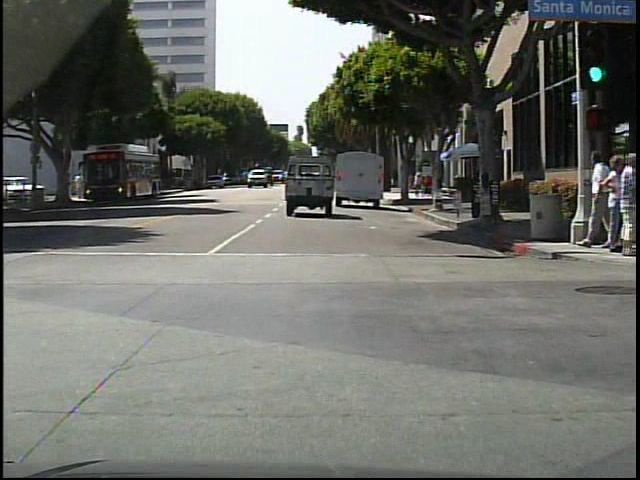person: (582, 150, 611, 250), (614, 152, 640, 254), (603, 156, 625, 253), (76, 171, 86, 200), (414, 171, 424, 198), (66, 175, 75, 201), (410, 169, 417, 198)
